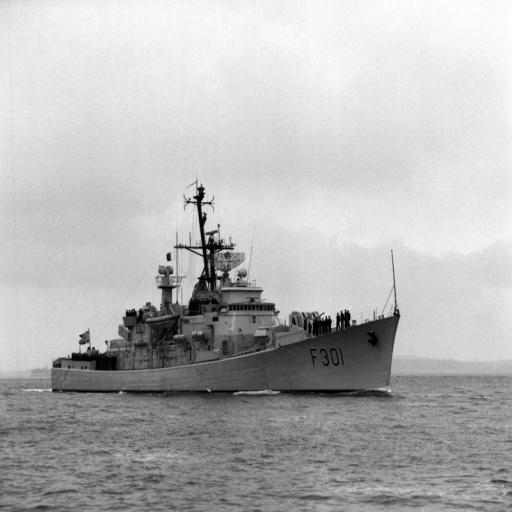Fragata: (47, 183, 404, 399)
